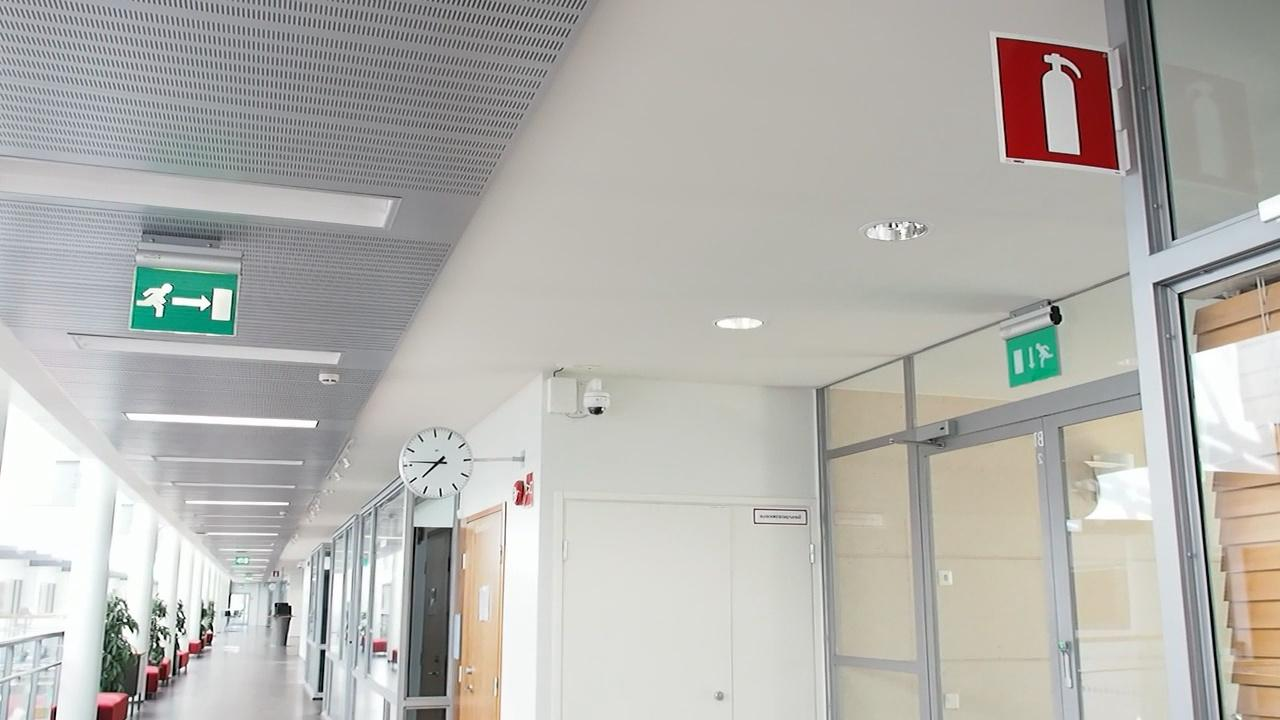clock: (393, 431, 474, 503)
exit: (122, 264, 236, 338), (1010, 337, 1071, 387)
fireextinguisher: (1005, 38, 1119, 164)
